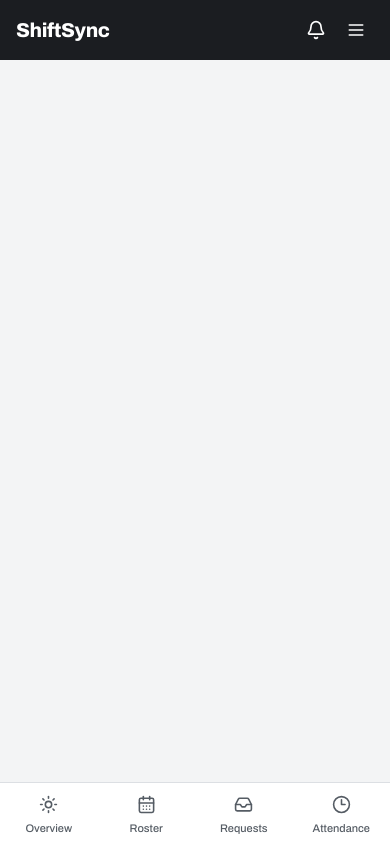
it: exposes an accessible collapsible navigation menu and admin/profile links
The width and height of the screenshot is (390, 844).
Click the button named "Menu" at (356, 30), box [338, 12, 374, 48]
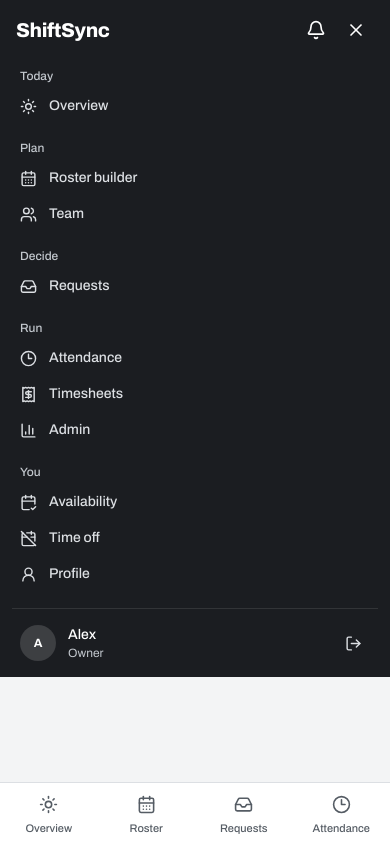
expect the button named "Menu" is expanded: met, box [338, 12, 374, 48]
Click the link "Profile" at (55, 574), box [20, 566, 90, 582]
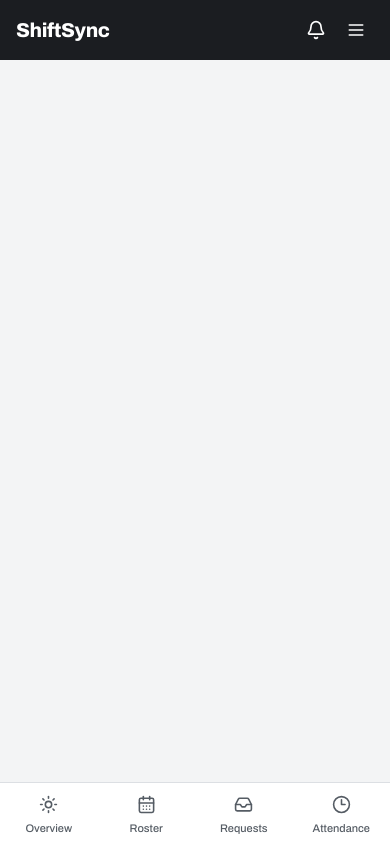
expect the button named "Menu" is collapsed: met, box [338, 12, 374, 48]
